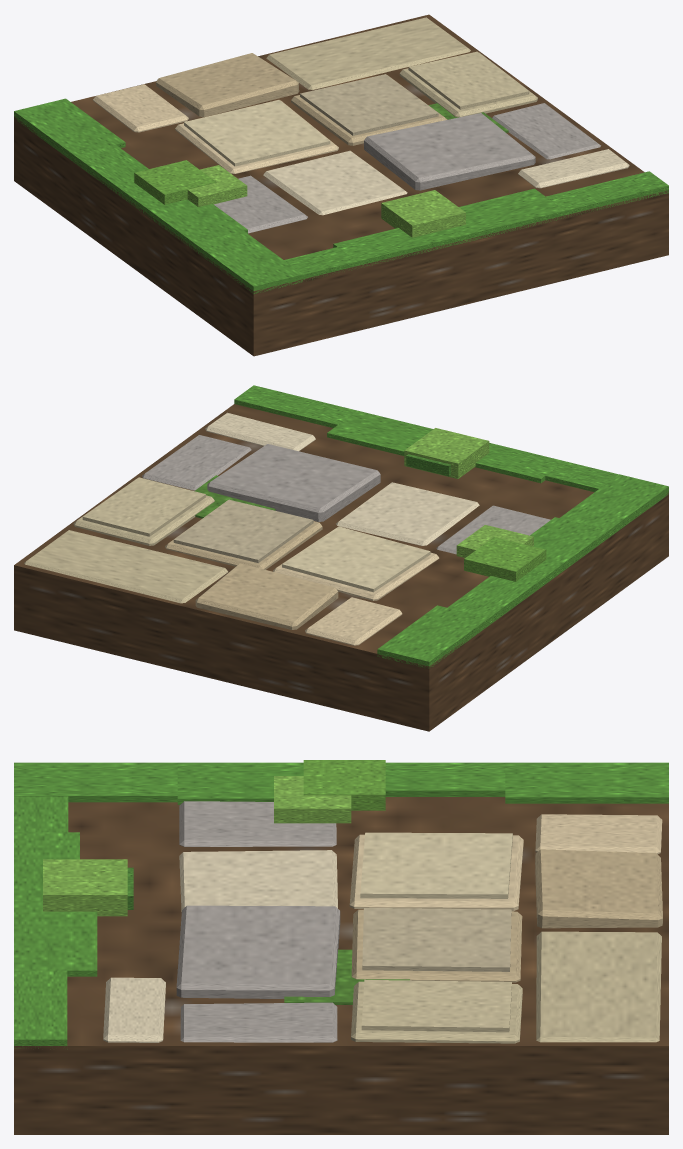
Rendered from Chemin_Virage_B.obj.
The picture shows the model from 3 angles, top to bottom: view 1: azimuth 30°, elevation 25°; view 2: azimuth 150°, elevation 25°; view 3: azimuth 270°, elevation 25°; orthographic projection. The views are drawn at different scales.
Visible parts, largest first — view 1: Chemin_Virage_B; view 2: Chemin_Virage_B; view 3: Chemin_Virage_B.
Part boxes in pixels (x1=…): Chemin_Virage_B: x1=14, y1=14, x2=668, y2=356; Chemin_Virage_B: x1=14, y1=385, x2=668, y2=731; Chemin_Virage_B: x1=14, y1=760, x2=668, y2=1134.
Bounding box in the file's own units: 8 × 1.51 × 8.
Materials: 1 (1 with a texture image).
